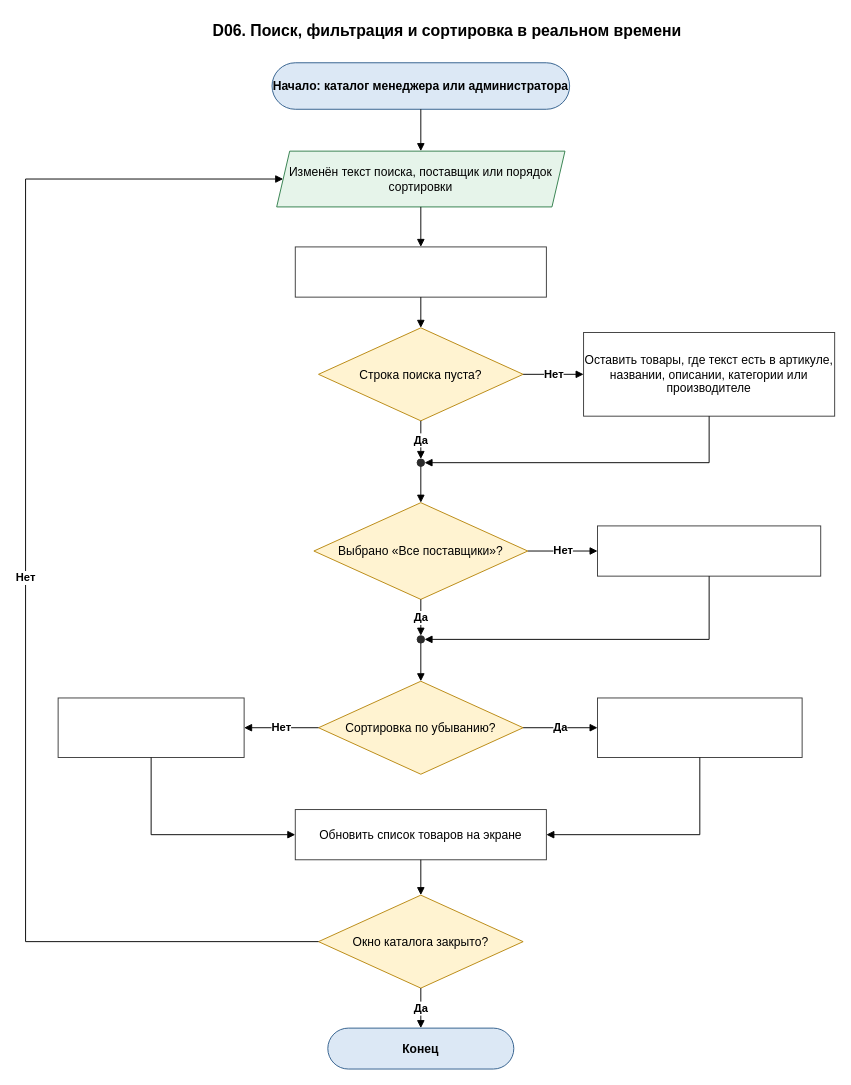
The diagram is 851 pixels wide and 1085 high, and some of its shapes have lost their labels. The centre of each missing label's shape, as x and y in pixels:
Взять все товары из БД: [420,271]
Оставить товары выбранного поставщика: [709,550]
Сортировать по остатку на складе по возрастанию: [150,727]
Сортировать по остатку на складе по убыванию: [699,727]
